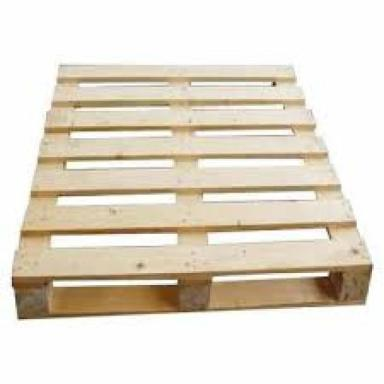pallet: (11, 64, 374, 320)
